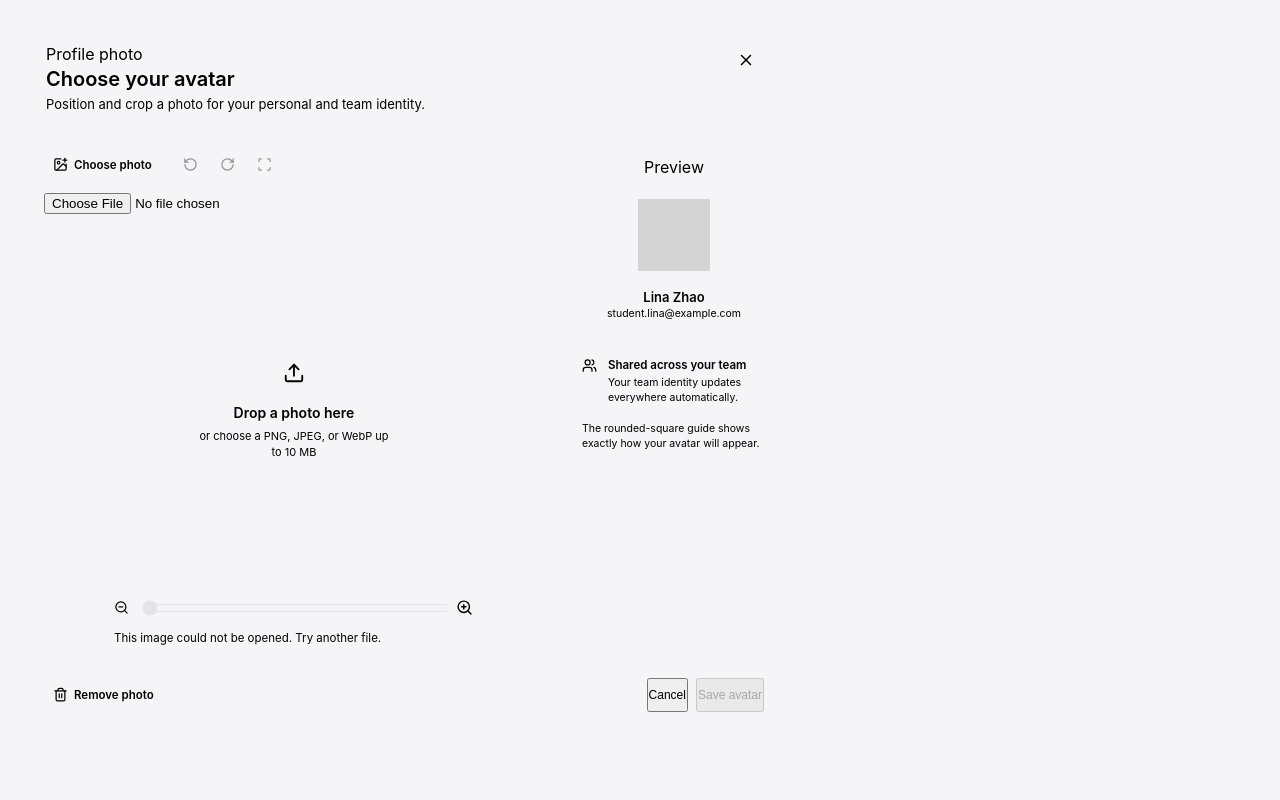
AvatarCropDialog › keeps the dialog open and retryable when the avatar write rejects
Click the button "Remove photo".
click(103, 695)  # box x1=44 y1=678 x2=163 y2=712
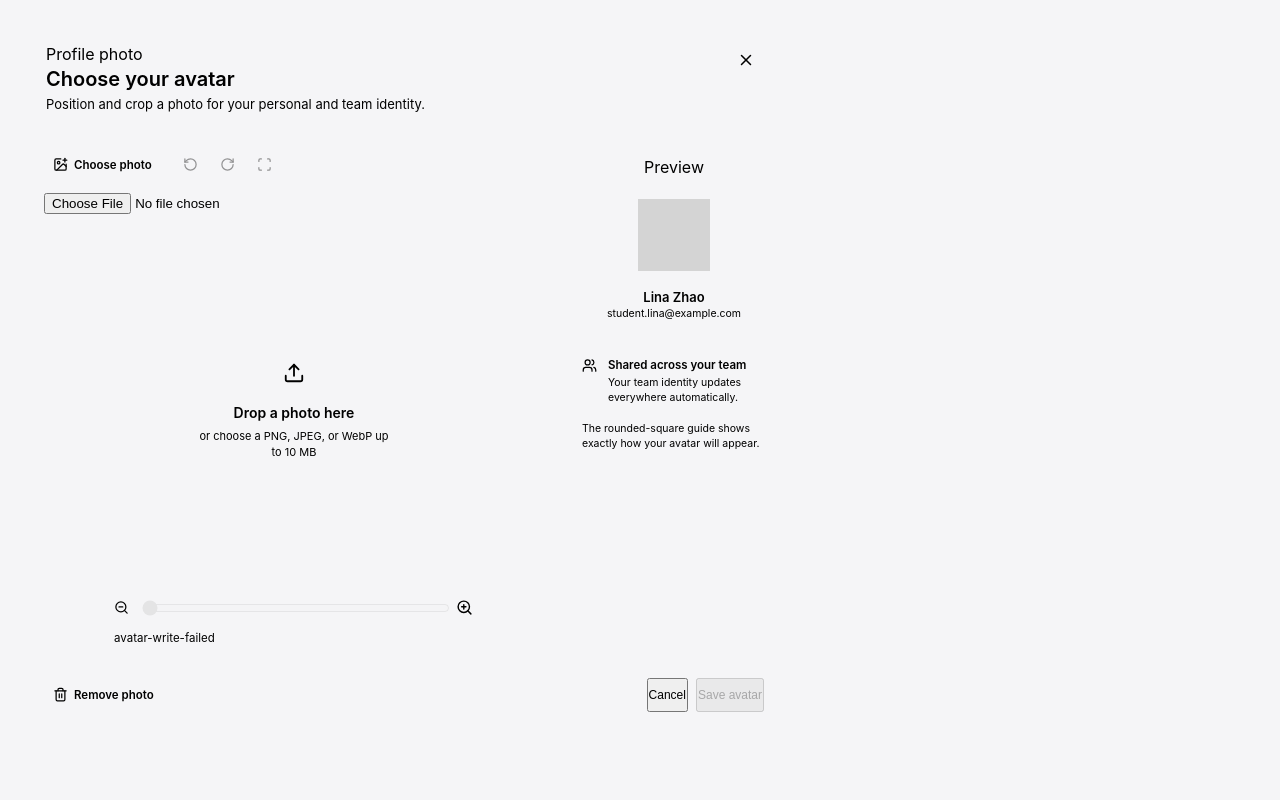
Check: the dialog "Choose your avatar" is shown, box x1=24 y1=24 x2=784 y2=726
Check: the message reads "avatar-write-failed", box x1=114 y1=630 x2=215 y2=644
